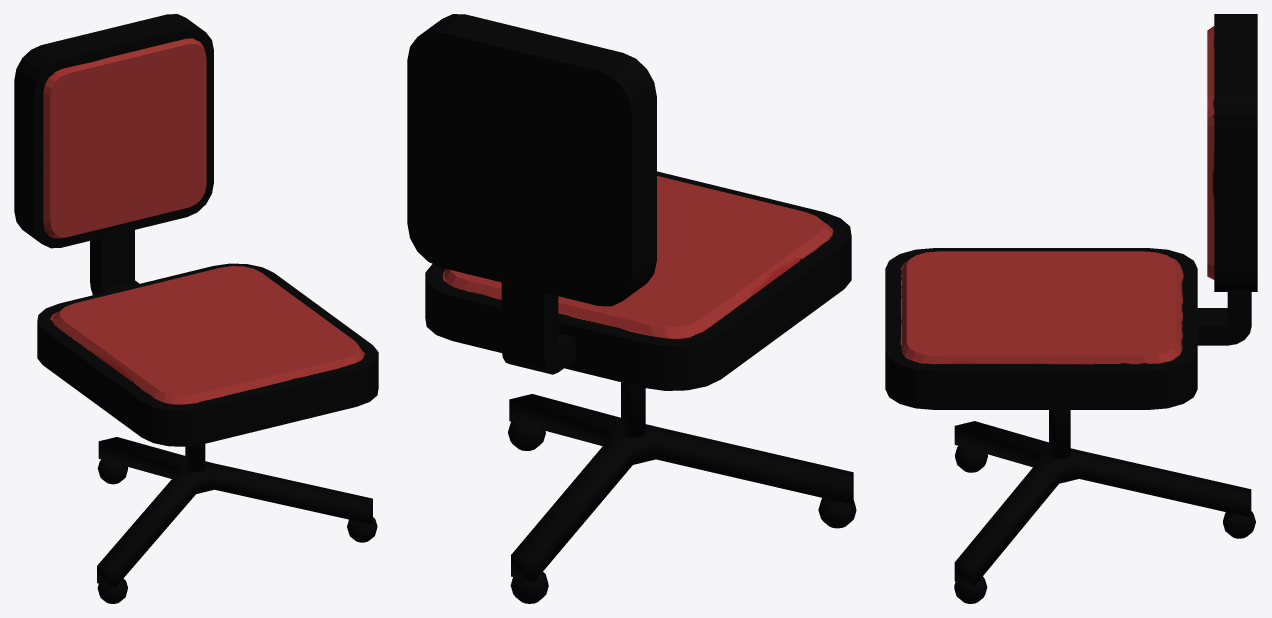
The model's file is Chair3.0.glb.
3 renders of one model, left to right at view 1: azimuth 30°, elevation 25°; view 2: azimuth 150°, elevation 25°; view 3: azimuth 270°, elevation 25°, orthographic. The views are drawn at different scales.
Parts seen in each view (by area): view 1: ChairTop, ChairBottom; view 2: ChairTop, ChairBottom; view 3: ChairTop, ChairBottom.
Boxes of the visible parts, x1,y1,x2,y2 form: ChairTop: [14, 14, 378, 446]; ChairBottom: [97, 437, 377, 603]; ChairTop: [407, 14, 851, 390]; ChairBottom: [508, 382, 856, 603]; ChairTop: [885, 14, 1257, 409]; ChairBottom: [954, 410, 1255, 603].
Bounding box in the file's own units: 0.8072 × 1.25 × 0.8642.
Materials: 2 (2 with a texture image).
